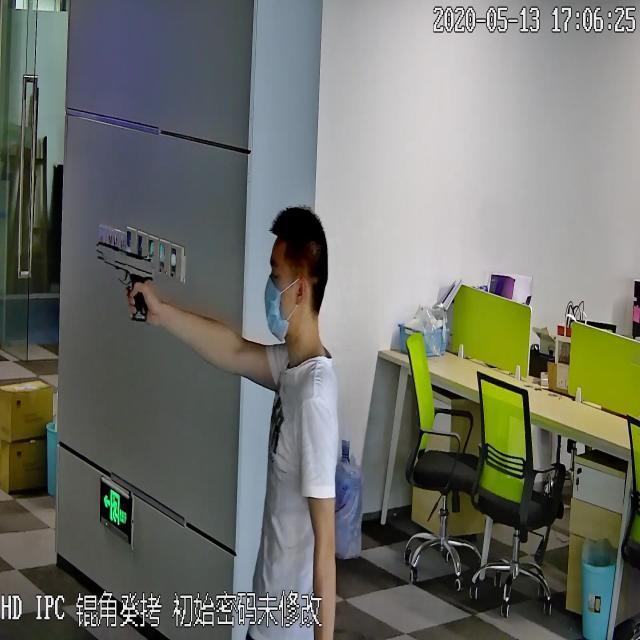gun: (92, 235, 154, 325)
